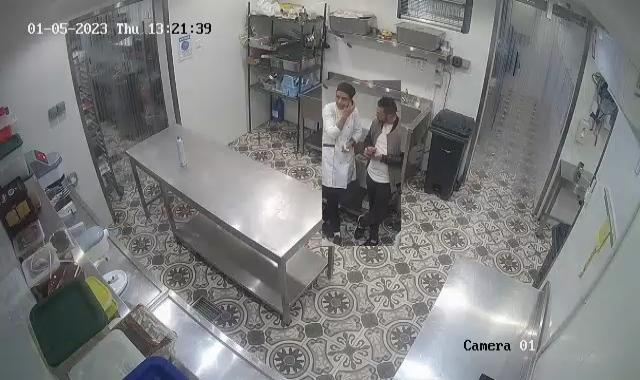no_hairnet: (378, 94, 400, 121), (336, 76, 356, 105)
